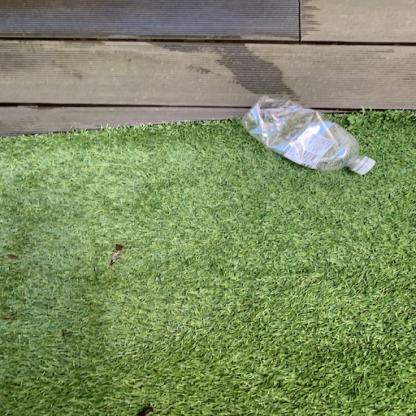trash: (237, 94, 376, 177)
